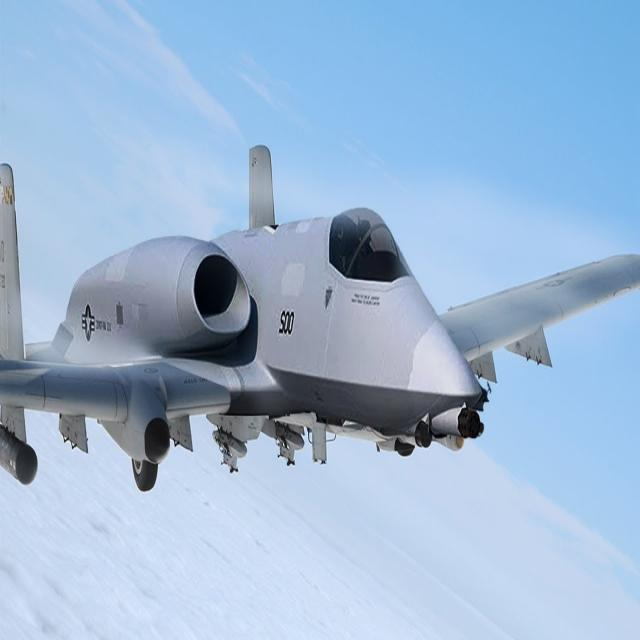A10: (2, 79, 640, 539)
